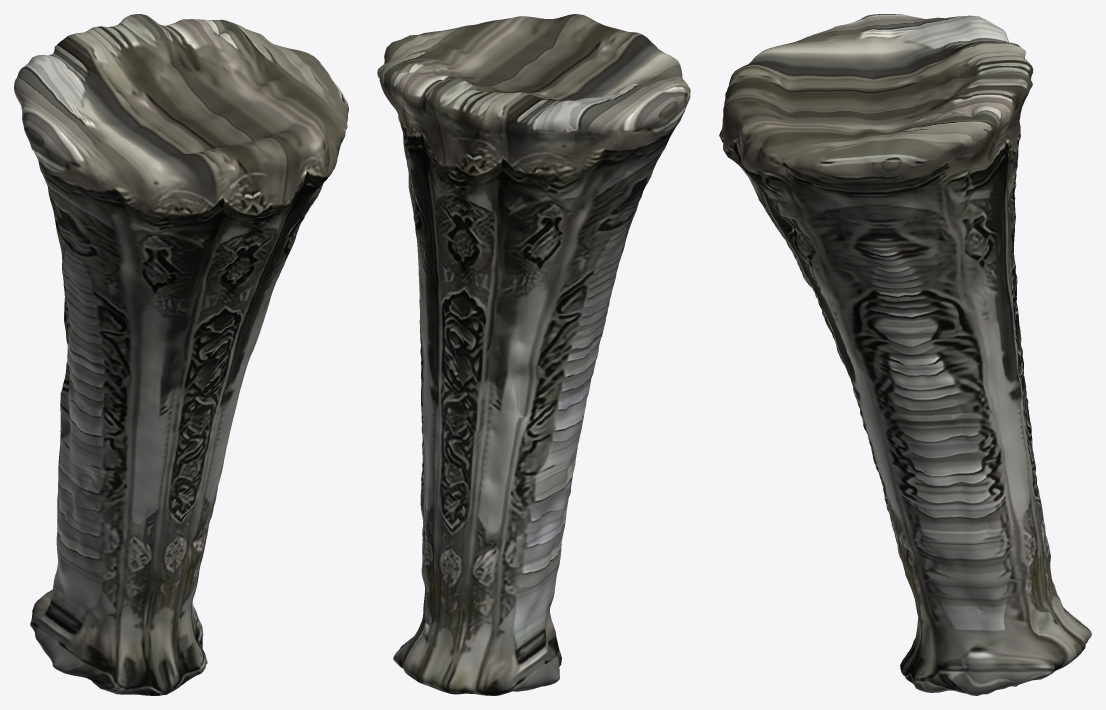
File: kfl-2265.glb
The picture shows the model from 3 angles, left to right: view 1: azimuth 30°, elevation 25°; view 2: azimuth 150°, elevation 25°; view 3: azimuth 270°, elevation 25°; orthographic projection. The views are drawn at different scales.
Parts seen in each view (by area): view 1: kfl-2265; view 2: kfl-2265; view 3: kfl-2265.
Part boxes in pixels (x1,y1,x2,y2): kfl-2265: (14,14,348,695); kfl-2265: (377,14,690,695); kfl-2265: (719,14,1091,695).
Bounding box in the file's own units: 0.4804 × 0.9953 × 0.5424.
1 material, 1 textured.
